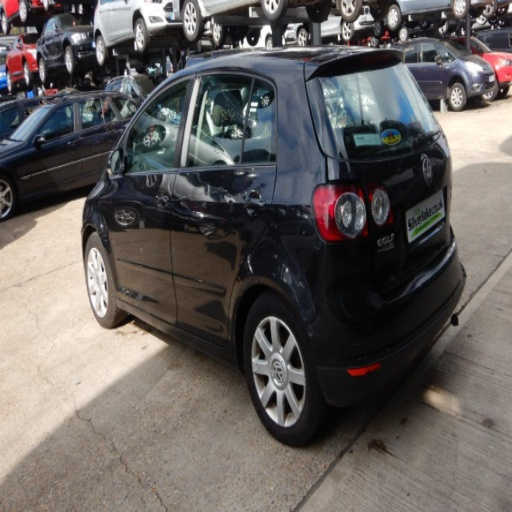dent: (277, 259, 326, 346)
